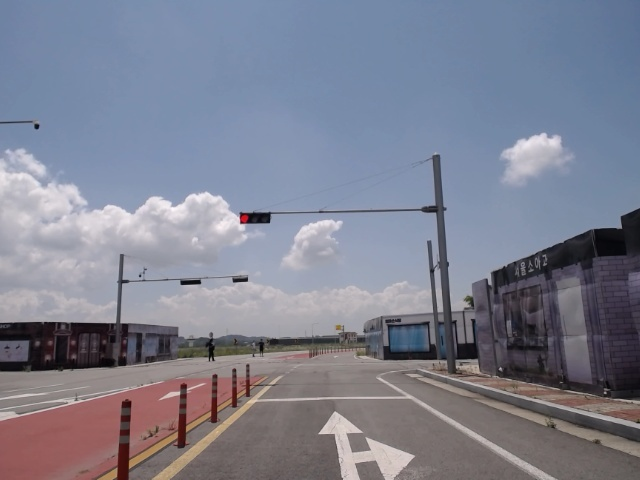red_3: (239, 212, 272, 224)
